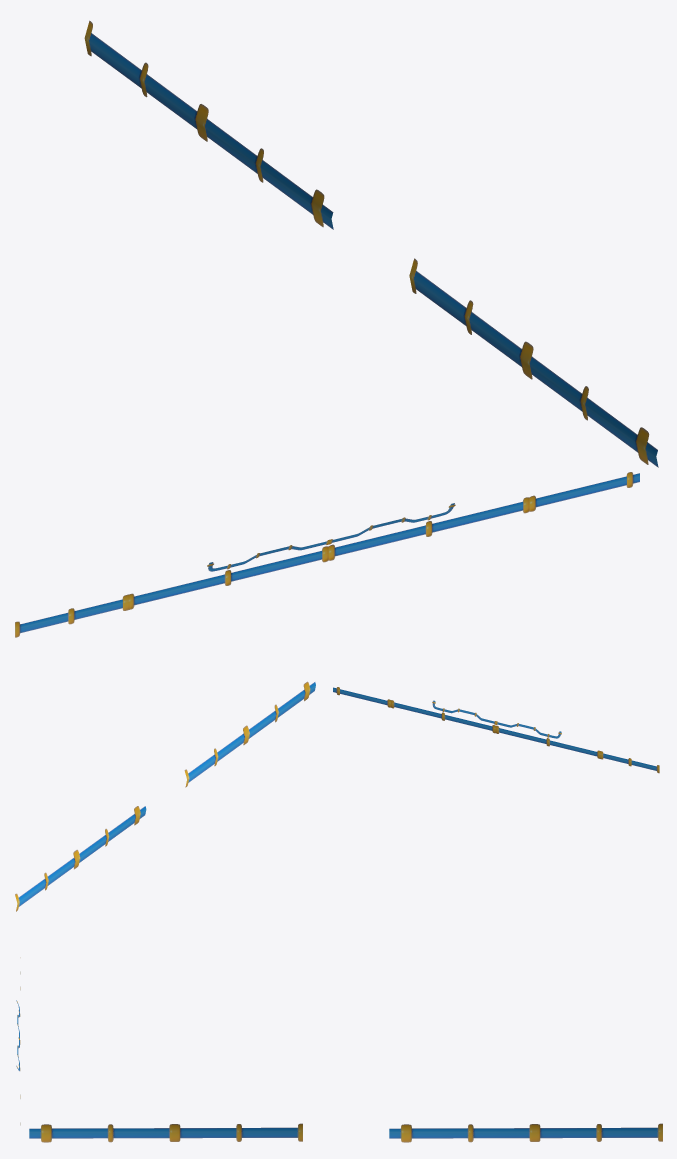
The model's file is Pipes_Level1.fbx.
3 views of the same model, one above another, from view 1: azimuth 30°, elevation 25°; view 2: azimuth 150°, elevation 25°; view 3: azimuth 270°, elevation 25° (orthographic). The views are drawn at different scales.
Parts seen in each view (by area): view 1: Side_Pipes_2D_Blue (×2), Top_Pipes_2D_Blue; view 2: Side_Pipes_2D_Blue (×2), Top_Pipes_2D_Blue; view 3: Side_Pipes_2D_Blue (×2).
Part boxes in pixels (x1,y1,x2,y2): Side_Pipes_2D_Blue (×2): [84, 20, 658, 467]; Top_Pipes_2D_Blue: [15, 472, 639, 637]; Side_Pipes_2D_Blue (×2): [15, 681, 315, 911]; Top_Pipes_2D_Blue: [333, 687, 659, 773]; Side_Pipes_2D_Blue (×2): [29, 1123, 662, 1142].
Bounding box in the file's own units: 240 × 15.64 × 370.
Materials: 1 (1 with a texture image).
